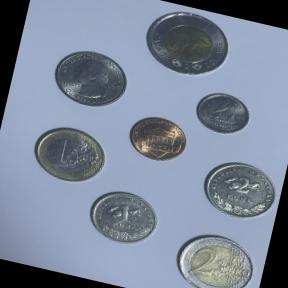1 Euro: (24, 115, 113, 190)
2 Euro: (165, 223, 262, 288)
Canda-10cent-: (189, 84, 257, 144)
Canda-2Dollar-: (133, 0, 239, 88)
Croatia-2Kune-: (192, 152, 286, 230)
US-1cent-: (119, 108, 193, 170)
US-25cent-: (44, 40, 136, 119)
